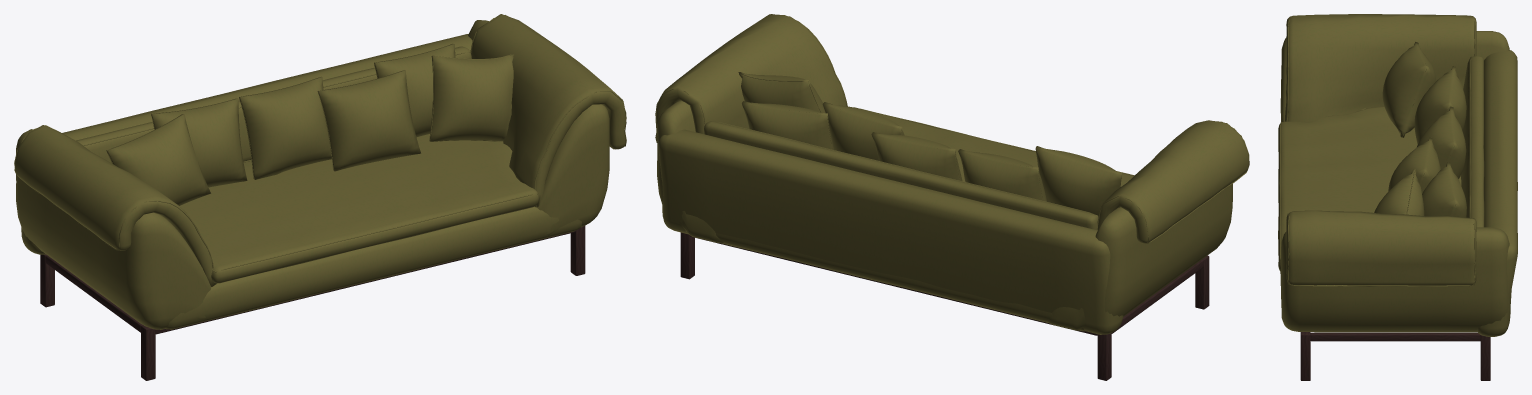
Rendered from stanza-curved-arm-01-mobile.glb.
3 views of the same model, side by side, from view 1: azimuth 30°, elevation 25°; view 2: azimuth 150°, elevation 25°; view 3: azimuth 270°, elevation 25° (orthographic). The views are drawn at different scales.
Visible parts, largest first — view 1: seat_pad, arm_l, hull, arm_pad_r, arm_pad_l, pillow_4_cover, pillow_6_cover, pillow_3_cover, arm_r, pillow_1_cover, pillow_2_cover, back_panel (+8 smaller); view 2: back_panel, arm_pad_r, arm_pad_l, arm_l, back_pad, pillow_1_cover, hull, pillow_5_cover, pillow_2_cover, pillow_3_cover, pillow_4_cover, seat_pad (+8 smaller); view 3: arm_pad_l, arm_pad_r, arm_r, seat_pad, back_panel, back_pad, pillow_1_cover, pillow_2_cover, pillow_3_cover, pillow_5_cover, wood_base_apron_side_r, pillow_6_cover (+8 smaller).
Part boxes in pixels (left/top/right/bottom): seat_pad: left=179, top=134, right=539, bottom=283; arm_l: left=16, top=129, right=211, bottom=329; hull: left=165, top=206, right=581, bottom=329; arm_pad_r: left=471, top=14, right=626, bottom=207; arm_pad_l: left=14, top=125, right=216, bottom=286; pillow_4_cover: left=317, top=70, right=420, bottom=171; pillow_6_cover: left=429, top=54, right=513, bottom=141; pillow_3_cover: left=239, top=77, right=331, bottom=179; arm_r: left=468, top=20, right=609, bottom=236; pillow_1_cover: left=106, top=114, right=210, bottom=205; pillow_2_cover: left=151, top=98, right=247, bottom=187; back_panel: left=21, top=34, right=472, bottom=254; back_panel: left=658, top=129, right=1123, bottom=334; arm_pad_r: left=656, top=14, right=846, bottom=141; arm_pad_l: left=1097, top=120, right=1248, bottom=243; arm_l: left=1046, top=184, right=1232, bottom=330; back_pad: left=704, top=121, right=1098, bottom=230; pillow_1_cover: left=1035, top=146, right=1122, bottom=216; hull: left=685, top=231, right=1085, bottom=331; pillow_5_cover: left=742, top=101, right=833, bottom=149; pillow_2_cover: left=958, top=149, right=1046, bottom=201; pillow_3_cover: left=871, top=132, right=962, bottom=180; pillow_4_cover: left=822, top=102, right=904, bottom=160; seat_pad: left=853, top=107, right=1133, bottom=186; arm_pad_l: left=1285, top=14, right=1476, bottom=122; arm_pad_r: left=1286, top=210, right=1476, bottom=286; arm_r: left=1280, top=227, right=1510, bottom=332; seat_pad: left=1278, top=106, right=1461, bottom=271; back_panel: left=1476, top=50, right=1517, bottom=336; back_pad: left=1461, top=56, right=1484, bottom=227; pillow_1_cover: left=1382, top=42, right=1436, bottom=137; pillow_2_cover: left=1414, top=66, right=1466, bottom=144; pillow_3_cover: left=1416, top=106, right=1466, bottom=178; pillow_5_cover: left=1422, top=162, right=1466, bottom=217; wood_base_apron_side_r: left=1310, top=332, right=1480, bottom=341; pillow_6_cover: left=1374, top=169, right=1424, bottom=215.
Size of the model in its own units: 2.21 by 0.7975 by 0.9991.
Materials: 5 (5 with a texture image).
